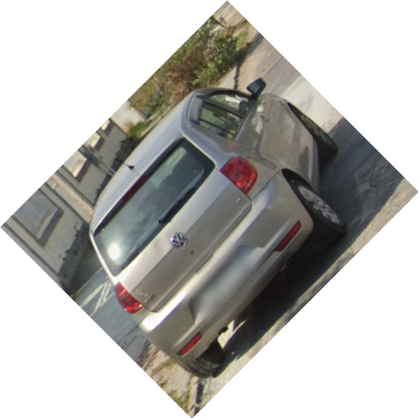car: (84, 81, 350, 376)
